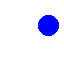circle: (38, 15, 58, 35)
